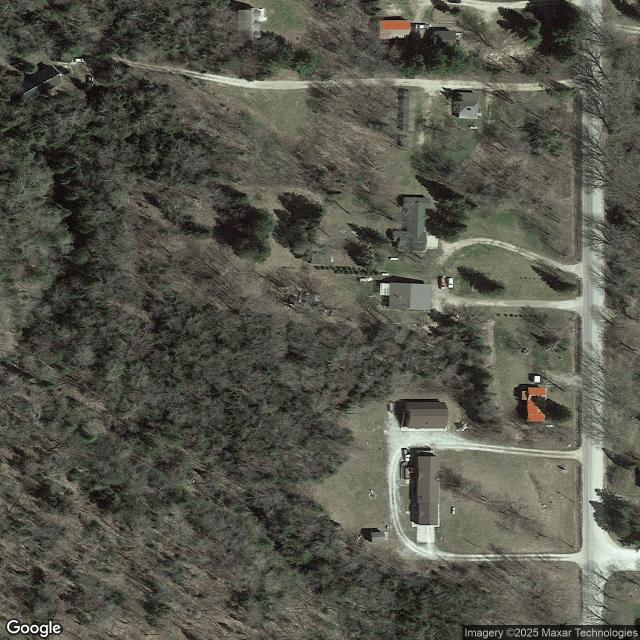Propane: (381, 272, 390, 276), (390, 257, 399, 261), (469, 126, 478, 130), (546, 424, 553, 428), (452, 507, 455, 515)
